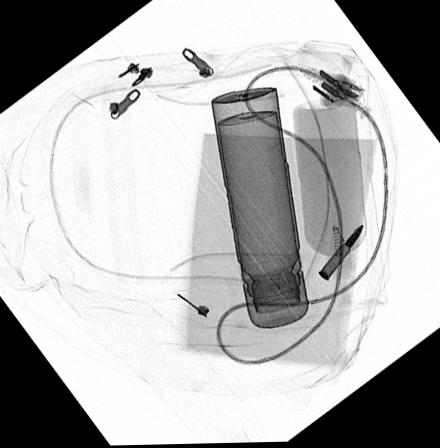Bullet: (317, 224, 363, 281)
